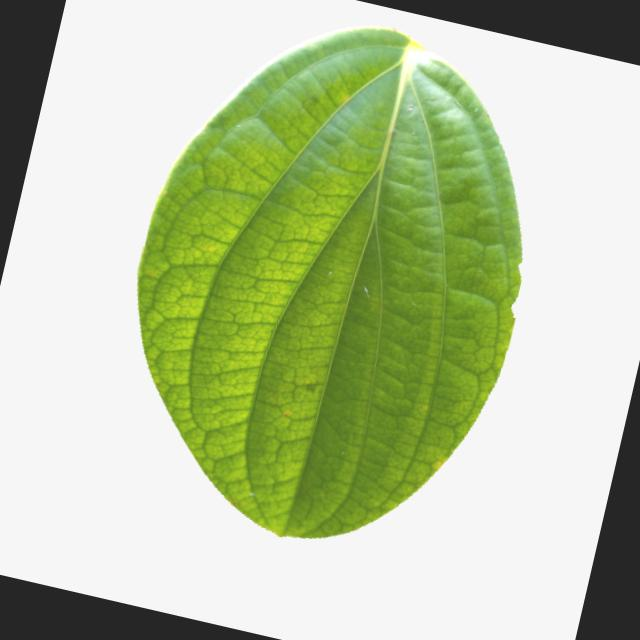healthy: (76, 0, 579, 593)
